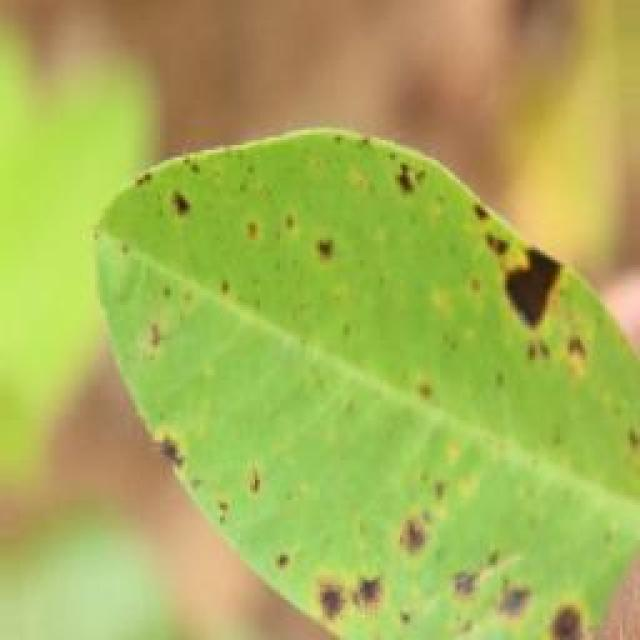Yellowish: (44, 133, 640, 640)
